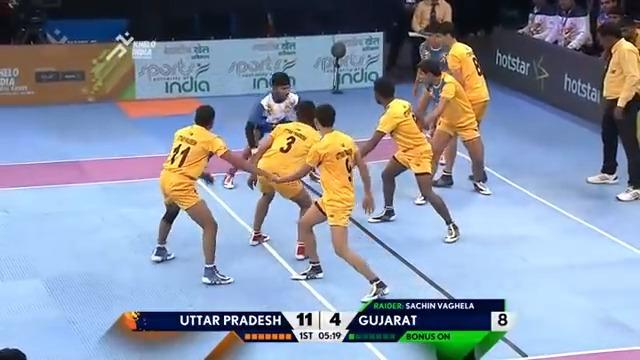Player: (278, 103, 389, 302), (150, 103, 269, 285), (356, 77, 460, 243), (247, 99, 321, 260), (412, 58, 491, 204), (585, 19, 639, 201)
Raider: (223, 71, 300, 189)
referee: (244, 71, 300, 152), (409, 0, 453, 80), (383, 0, 419, 73), (616, 15, 639, 51)
